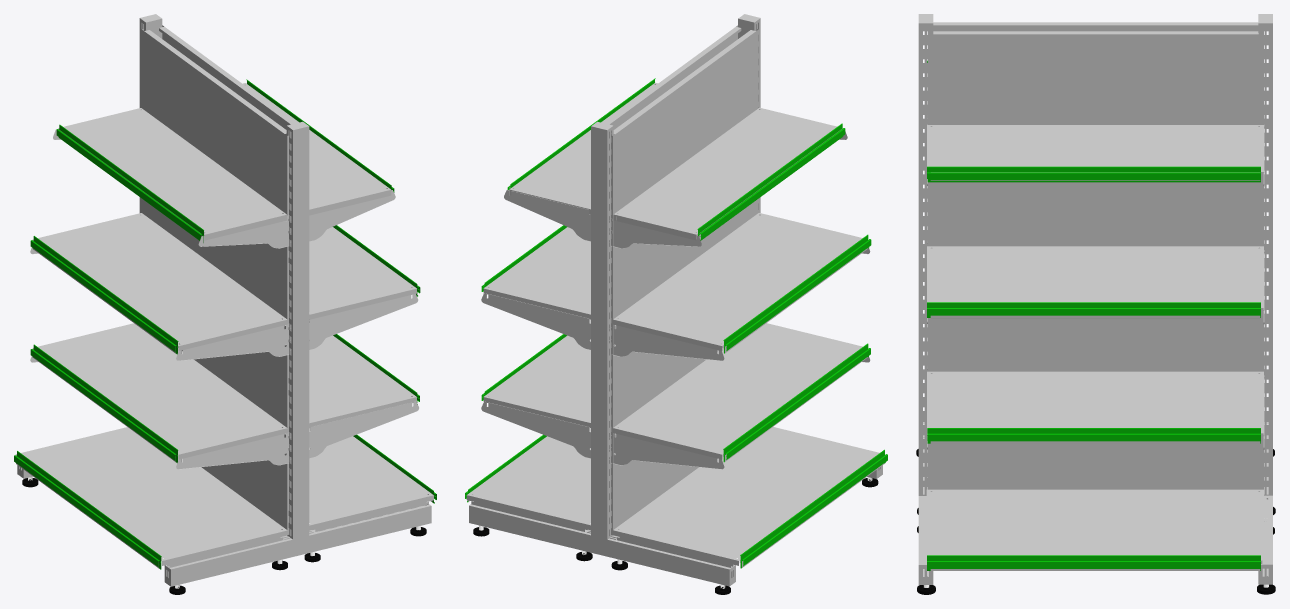
The model's file is center_rack_43898c26.glb.
3 views of the same model, side by side, from view 1: azimuth 30°, elevation 25°; view 2: azimuth 150°, elevation 25°; view 3: azimuth 270°, elevation 25° (orthographic). The views are drawn at different scales.
Visible parts, largest first — view 1: 3DGeom-31, 3DGeom-3, 3DGeom-49, 3DGeom-24, 3DGeom-15, 3DGeom-40, 3DGeom-23, 3DGeom-52, 3DGeom-10, 3DGeom-4, 3DGeom-9, 3DGeom-34 (+13 smaller); view 2: 3DGeom-31, 3DGeom-3, 3DGeom-49, 3DGeom-30, 3DGeom-15, 3DGeom-40, 3DGeom-23, 3DGeom-52, 3DGeom-4, 3DGeom-10, 3DGeom-9, 3DGeom-34 (+13 smaller); view 3: 3DGeom-50, 3DGeom-51, 3DGeom-18, 3DGeom-23, 3DGeom-10, 3DGeom-4, 3DGeom-34, 3DGeom-11, 3DGeom-24, 3DGeom-30, 3DGeom-26, 3DGeom-35 (+2 smaller).
Part boxes in pixels (left/top/right/bottom): 3DGeom-31: left=15, top=427, right=287, bottom=568; 3DGeom-3: left=32, top=213, right=287, bottom=353; 3DGeom-49: left=32, top=323, right=287, bottom=461; 3DGeom-24: left=164, top=121, right=431, bottom=586; 3DGeom-15: left=141, top=29, right=291, bottom=269; 3DGeom-40: left=58, top=108, right=286, bottom=240; 3DGeom-23: left=309, top=428, right=433, bottom=531; 3DGeom-52: left=141, top=199, right=291, bottom=401; 3DGeom-10: left=309, top=227, right=416, bottom=320; 3DGeom-4: left=309, top=321, right=416, bottom=428; 3DGeom-9: left=178, top=343, right=291, bottom=534; 3DGeom-34: left=243, top=83, right=391, bottom=215; 3DGeom-31: left=613, top=427, right=884, bottom=568; 3DGeom-3: left=613, top=213, right=867, bottom=353; 3DGeom-49: left=613, top=323, right=867, bottom=461; 3DGeom-30: left=469, top=121, right=735, bottom=586; 3DGeom-15: left=609, top=29, right=758, bottom=269; 3DGeom-40: left=613, top=107, right=841, bottom=240; 3DGeom-23: left=466, top=428, right=590, bottom=530; 3DGeom-52: left=609, top=199, right=758, bottom=402; 3DGeom-4: left=483, top=319, right=590, bottom=428; 3DGeom-10: left=483, top=227, right=590, bottom=320; 3DGeom-9: left=609, top=343, right=722, bottom=534; 3DGeom-34: left=509, top=82, right=657, bottom=214; 3DGeom-50: left=927, top=31, right=1263, bottom=189; 3DGeom-51: left=927, top=187, right=1263, bottom=342; 3DGeom-18: left=927, top=340, right=1263, bottom=491; 3DGeom-23: left=926, top=489, right=1263, bottom=570; 3DGeom-10: left=927, top=246, right=1263, bottom=318; 3DGeom-4: left=927, top=371, right=1263, bottom=443; 3DGeom-34: left=927, top=125, right=1263, bottom=180; 3DGeom-11: left=927, top=166, right=1260, bottom=182; 3DGeom-24: left=918, top=14, right=933, bottom=584; 3DGeom-30: left=1258, top=14, right=1272, bottom=584; 3DGeom-26: left=927, top=555, right=1260, bottom=570; 3DGeom-35: left=927, top=428, right=1260, bottom=443.
Bounding box in the file's own units: 0.9903 × 1.49 × 0.9588.
